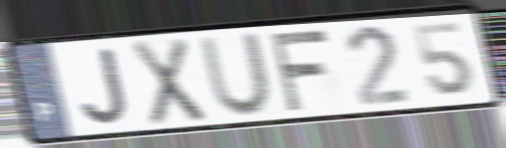2: (342, 22, 414, 109)
5: (409, 19, 476, 98)
F: (265, 26, 332, 114)
J: (78, 44, 132, 127)
U: (196, 30, 275, 119)
X: (128, 35, 209, 129)
